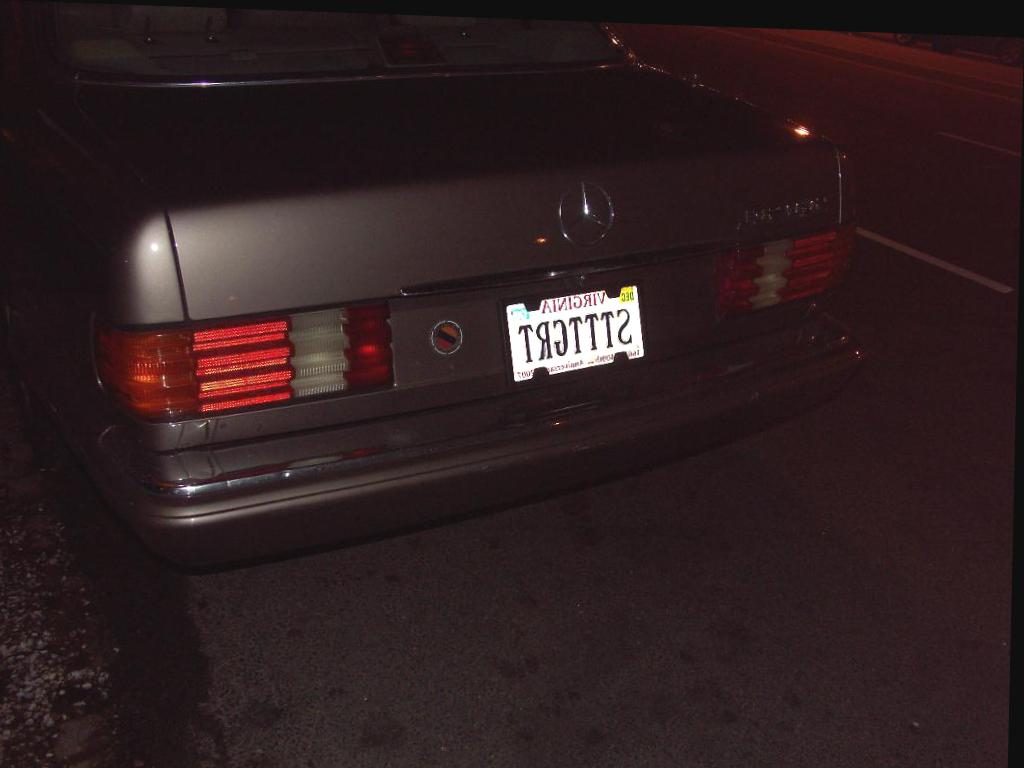License_Plate: (506, 276, 646, 385)
